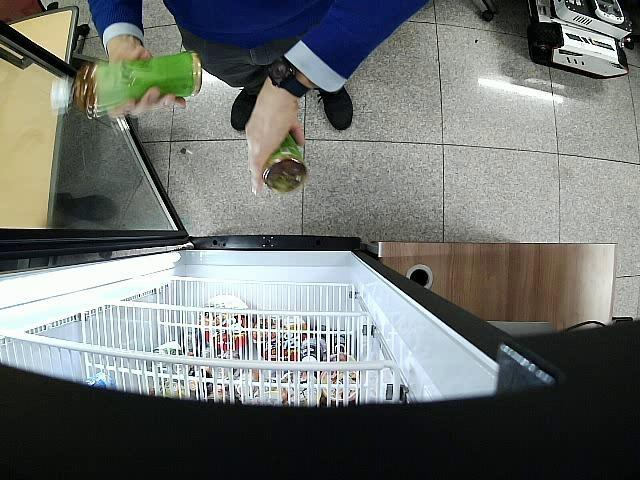19_17cha: (51, 53, 202, 110), (246, 99, 303, 196)
